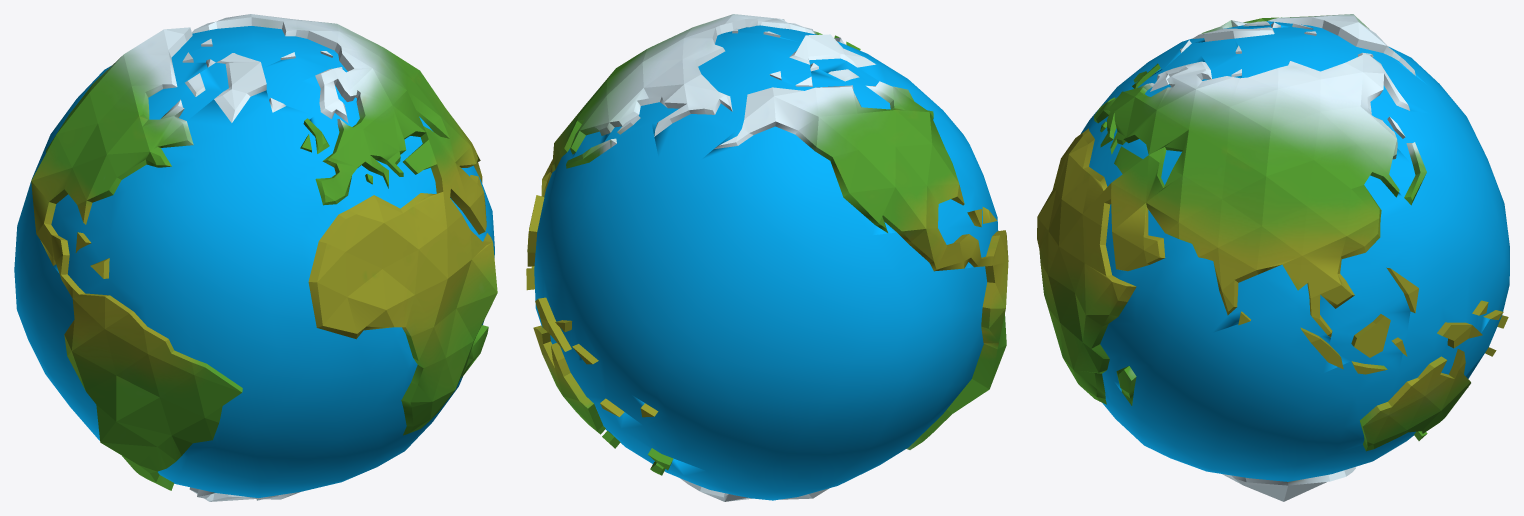
The picture shows the model from 3 angles, left to right: view 1: azimuth 30°, elevation 25°; view 2: azimuth 150°, elevation 25°; view 3: azimuth 270°, elevation 25°; orthographic projection. The views are drawn at different scales.
Parts seen in each view (by area): view 1: earth4; view 2: earth4; view 3: earth4.
Part boxes in pixels (box(x1,y1,x2,y2)): earth4: box(14, 14, 497, 501); earth4: box(526, 14, 1008, 501); earth4: box(1037, 14, 1509, 501).
Bounding box in the file's own units: 17.33 × 17.94 × 17.29.
Materials: 2 (2 with a texture image).
